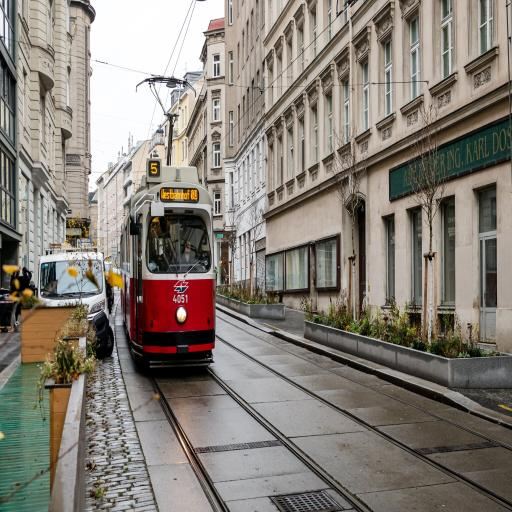E2-Tram: (120, 157, 221, 372)
